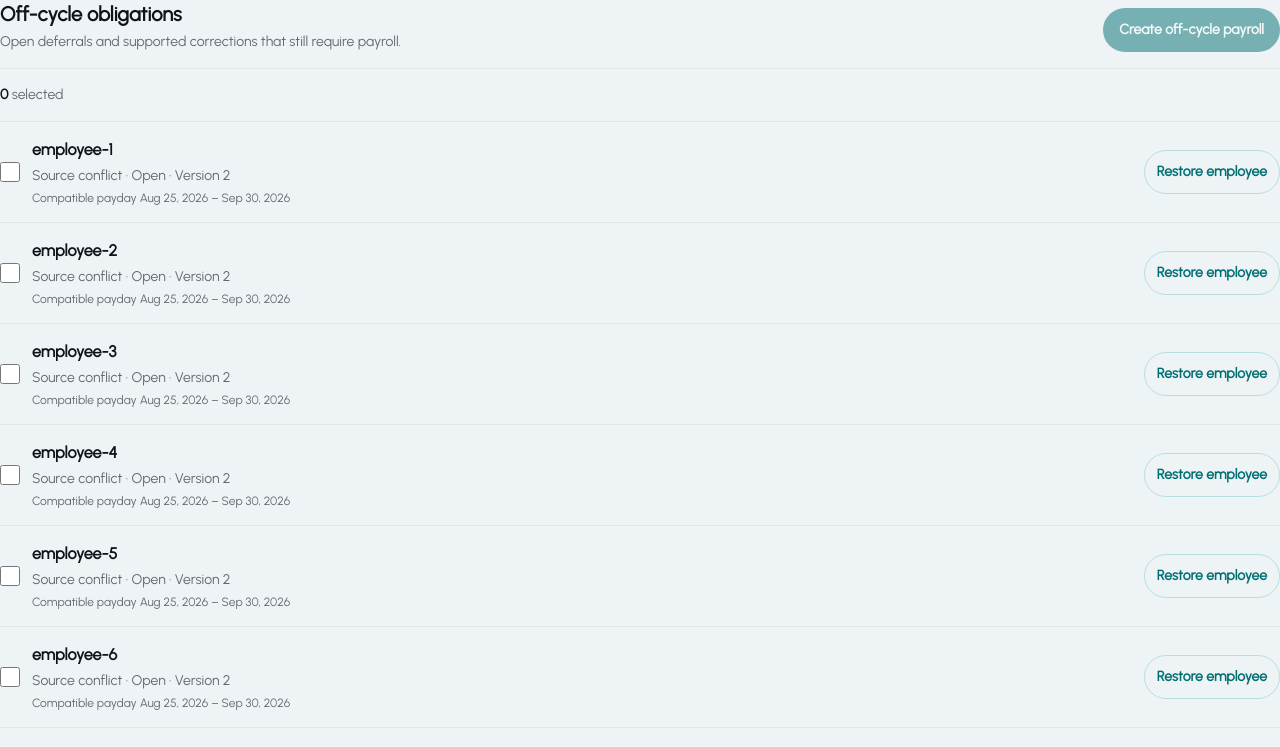
Test: PayrollObligationsPanel › restores only open unattached compatible deferrals and refreshes after a stale-version rejection
Later steps or results of the test are not shown.
Click the 1st button "Restore employee" at (1212, 172), box [1144,150,1279,194]
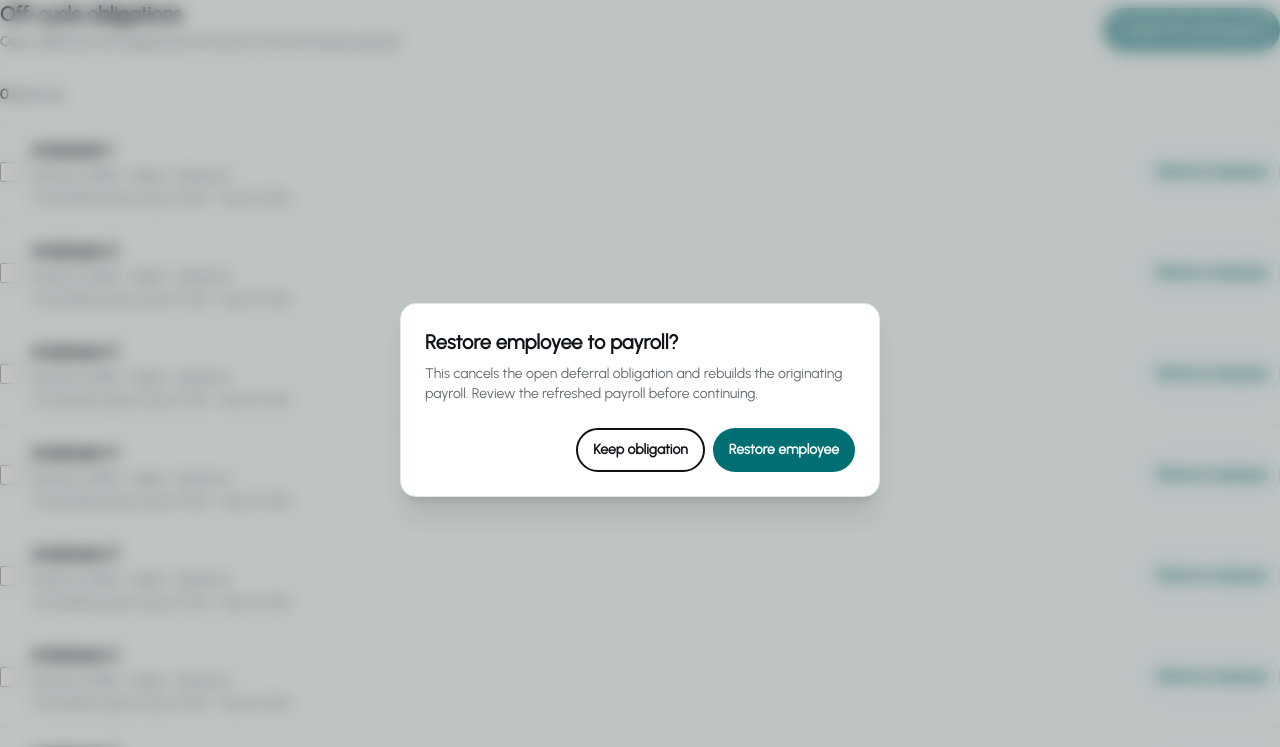
Result: the dialog "Restore employee to payroll?" is shown at [400,303,880,497]
